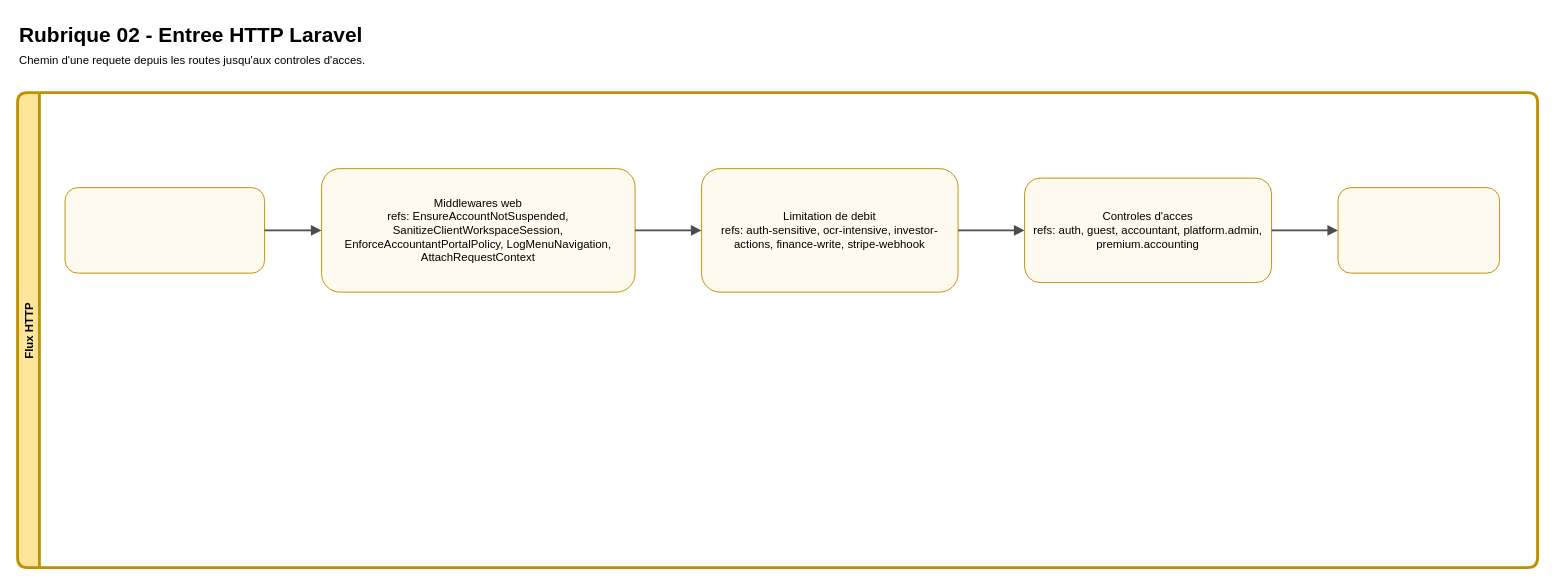
Some shapes in this 1555 by 585 pixel diagram are drawn without their labels. Each missing label, with the centre of its shape:
"Dispatch vers les controleurs selon domaine et role" belongs at pixel 1418 230.
"Routes principales ref: routes/web.php" belongs at pixel 164 230.
